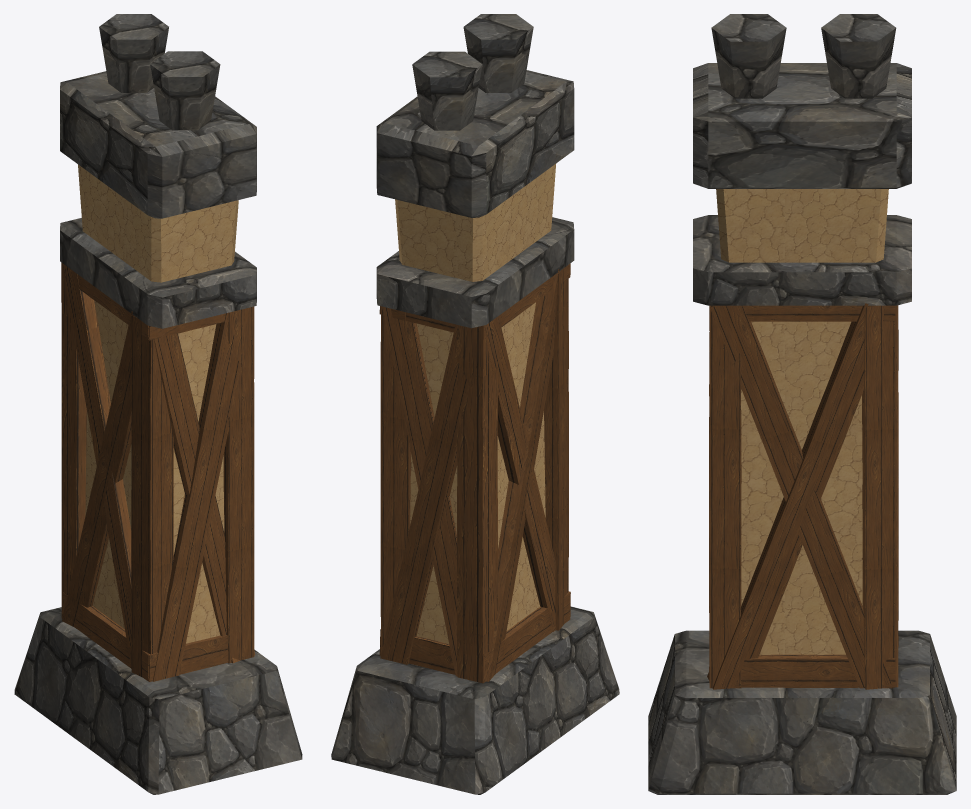
Rendered from Chimney.fbx.
3 views of the same model, side by side, from view 1: azimuth 30°, elevation 25°; view 2: azimuth 150°, elevation 25°; view 3: azimuth 270°, elevation 25° (orthographic). The views are drawn at different scales.
Parts seen in each view (by area): view 1: Cube.005, Cube.007, Cube.006, WoodenBeam.028, WoodenBeam.036, WoodenBeam.030, Cube.008, WoodenBeam.033, WoodenBeam.034, WoodenBeam.031, WoodenBeam.035, Cylinder.002 (+5 smaller); view 2: Cube.005, Cube.007, Cube.006, WoodenBeam.031, Cube.008, WoodenBeam.040, WoodenBeam.034, WoodenBeam.039, WoodenBeam.029, WoodenBeam.028, WoodenBeam.033, Cylinder.001 (+4 smaller); view 3: Cube.005, Cube.006, Cube.007, WoodenBeam.029, WoodenBeam.038, Cube.008, WoodenBeam.037, WoodenBeam.030, Cylinder.002, Cylinder.001, WoodenBeam.047, WoodenBeam.042 (+1 smaller).
Part boxes in pixels (x1=…): Cube.005: x1=14, y1=607, x2=302, y2=794; Cube.007: x1=60, y1=71, x2=256, y2=218; Cube.006: x1=78, y1=164, x2=238, y2=643; WoodenBeam.028: x1=131, y1=315, x2=173, y2=677; WoodenBeam.036: x1=152, y1=313, x2=241, y2=681; WoodenBeam.030: x1=223, y1=306, x2=254, y2=663; Cube.008: x1=60, y1=218, x2=256, y2=328; WoodenBeam.033: x1=61, y1=264, x2=146, y2=680; WoodenBeam.034: x1=62, y1=311, x2=135, y2=627; WoodenBeam.031: x1=61, y1=262, x2=86, y2=628; WoodenBeam.035: x1=154, y1=333, x2=226, y2=636; Cylinder.002: x1=150, y1=51, x2=220, y2=130; Cube.005: x1=331, y1=606, x2=619, y2=794; Cube.007: x1=376, y1=70, x2=574, y2=217; Cube.006: x1=395, y1=163, x2=556, y2=643; WoodenBeam.031: x1=457, y1=324, x2=497, y2=683; Cube.008: x1=376, y1=217, x2=574, y2=328; WoodenBeam.040: x1=380, y1=324, x2=481, y2=664; WoodenBeam.034: x1=486, y1=269, x2=560, y2=681; WoodenBeam.039: x1=382, y1=306, x2=457, y2=676; WoodenBeam.029: x1=380, y1=306, x2=410, y2=654; WoodenBeam.028: x1=544, y1=268, x2=568, y2=630; WoodenBeam.033: x1=484, y1=316, x2=568, y2=631; Cylinder.001: x1=412, y1=51, x2=482, y2=130; Cube.005: x1=648, y1=630, x2=956, y2=794; Cube.006: x1=716, y1=189, x2=888, y2=654; Cube.007: x1=693, y1=63, x2=911, y2=188; WoodenBeam.029: x1=862, y1=305, x2=896, y2=689; WoodenBeam.038: x1=707, y1=303, x2=877, y2=689; Cube.008: x1=693, y1=215, x2=911, y2=305; WoodenBeam.037: x1=710, y1=305, x2=893, y2=688; WoodenBeam.030: x1=709, y1=305, x2=741, y2=688; Cylinder.002: x1=711, y1=14, x2=786, y2=98; Cylinder.001: x1=821, y1=14, x2=896, y2=98; WoodenBeam.047: x1=719, y1=654, x2=895, y2=687; WoodenBeam.042: x1=743, y1=305, x2=895, y2=321.
Bounding box in the file's own units: 435 × 1840 × 702.
4 materials, 4 textured.
